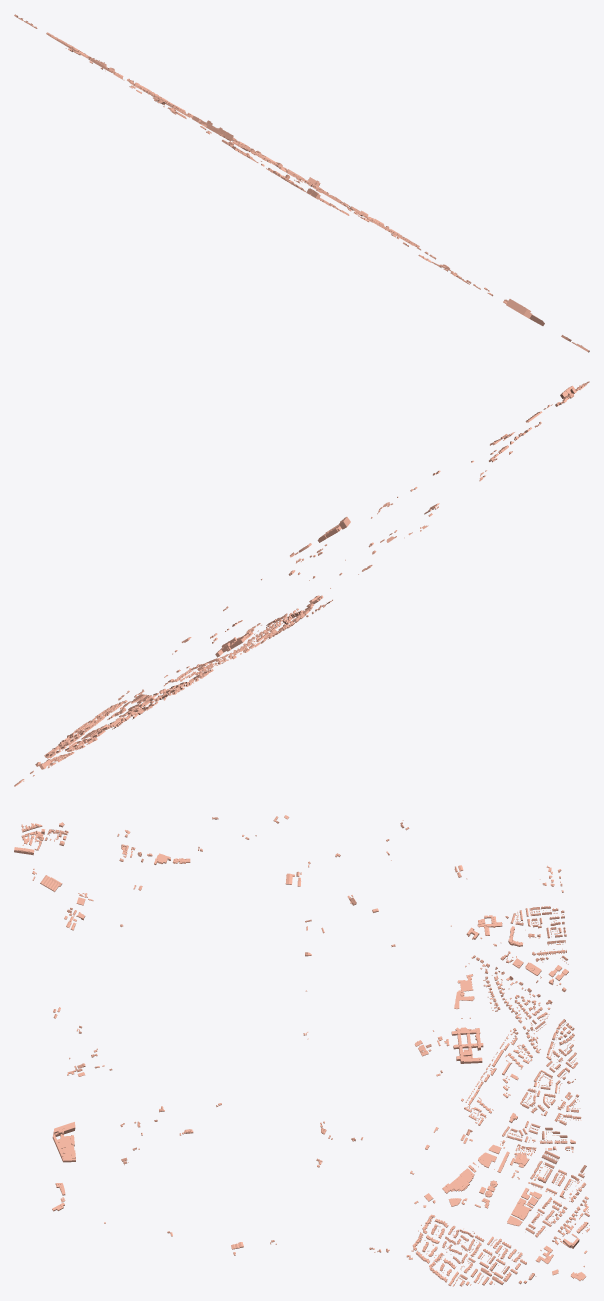
3 views of the same model, one above another, from view 1: azimuth 30°, elevation 25°; view 2: azimuth 150°, elevation 25°; view 3: azimuth 270°, elevation 25° (orthographic). The views are drawn at different scales.
Bounding box in the file's own units: 1838 × 1481 × 2572.
